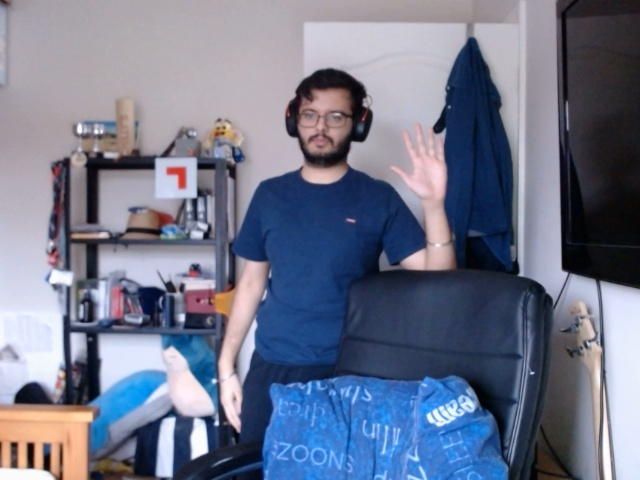Hello: (386, 121, 455, 206)
